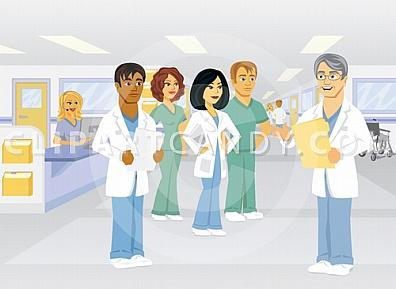person: (92, 61, 165, 268), (182, 67, 240, 237), (216, 59, 272, 219), (145, 66, 192, 221), (52, 89, 92, 146)
pottedplant: (294, 53, 372, 275)
